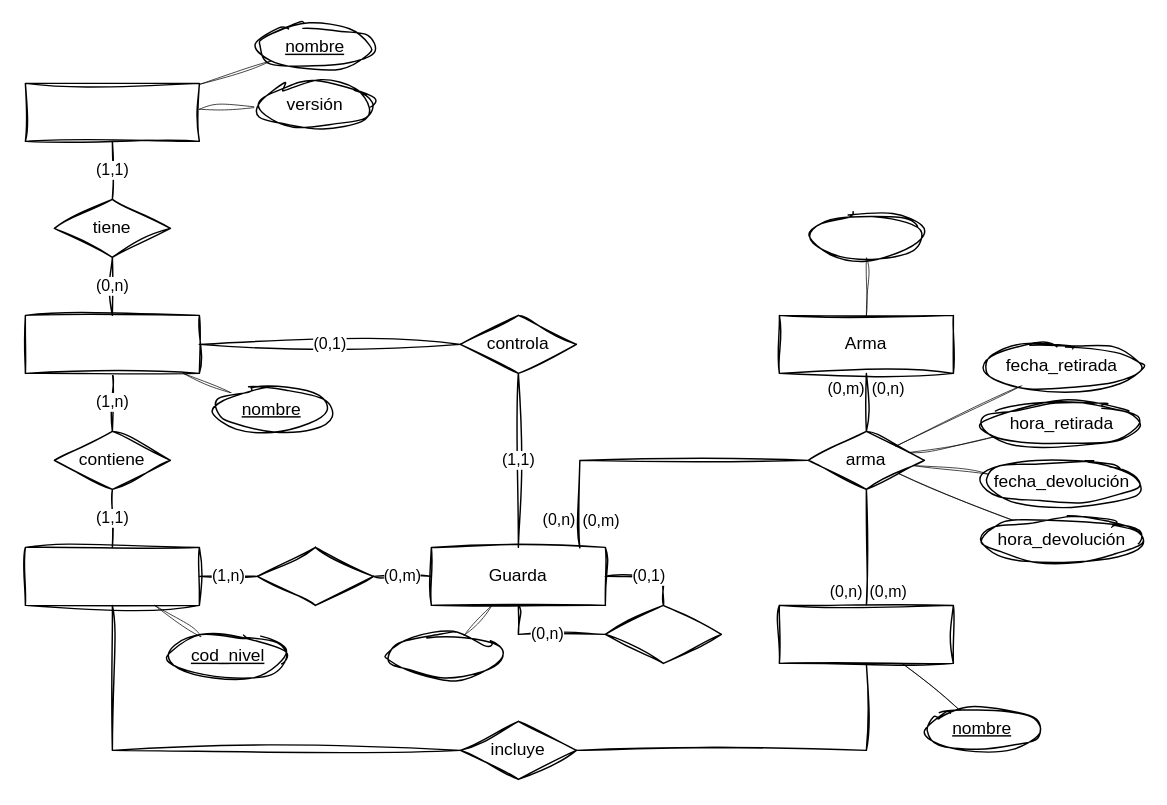
The diagram is 1167 pixels wide and 805 high, and some of its shapes have lost their labels. Here are the shapes that lost their labels. From the top down, the box of each, then its label:
(24, 82, 199, 141): Firewall
(807, 212, 924, 257): tipo
(24, 314, 199, 373): CentroDeControl
(24, 546, 199, 605): Nivel
(256, 546, 373, 605): protege
(604, 604, 721, 663): lidera
(778, 604, 953, 663): Arsenal
(386, 633, 504, 678): cod_guarda
